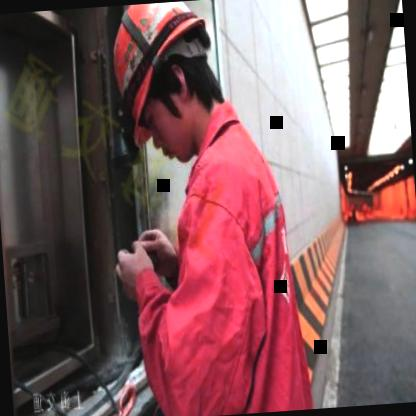helmet: (102, 0, 230, 176)
